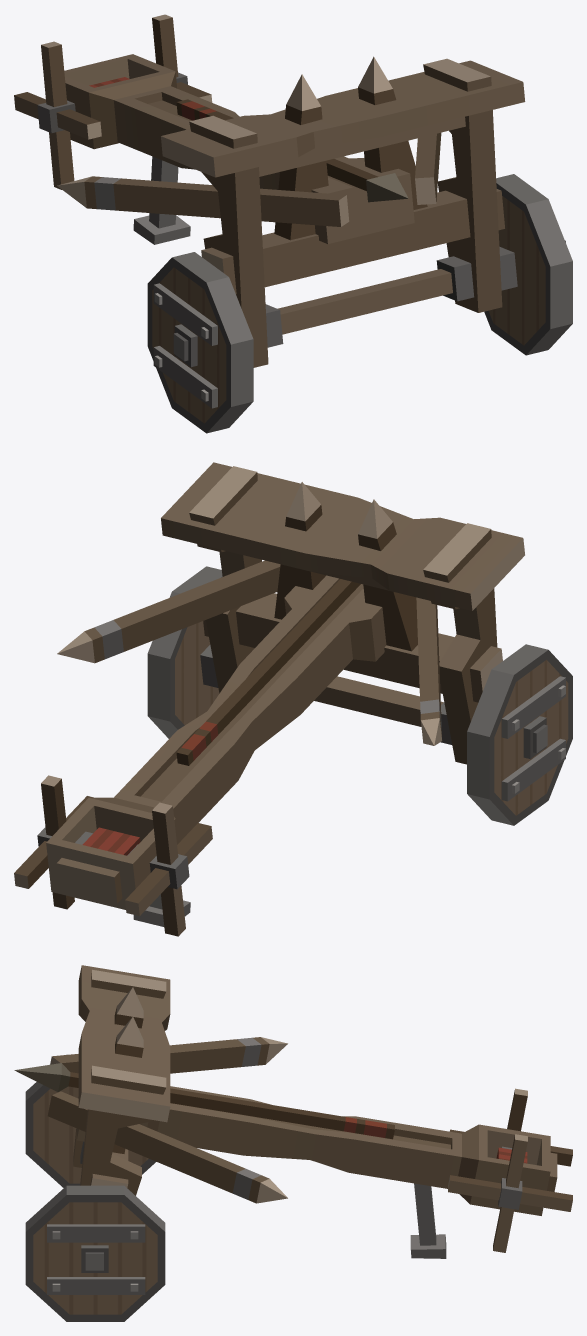
File: SF_Veh_Goblin_Ballista_01.fbx
3 renders of one model, top to bottom at view 1: azimuth 30°, elevation 25°; view 2: azimuth 150°, elevation 25°; view 3: azimuth 270°, elevation 25°, orthographic. The views are drawn at different scales.
Parts seen in each view (by area): view 1: SF_Veh_Goblin_Ballista_01, SF_Veh_Goblin_Ballista_WheelR, SF_Veh_Goblin_Ballista_WheelL, SF_Veh_Goblin_Ballista_ArmR, SF_Veh_Goblin_Ballista_Handle, SF_Veh_Goblin_Ballista_Bolt, SF_Veh_Goblin_Ballista_ArmL; view 2: SF_Veh_Goblin_Ballista_01, SF_Veh_Goblin_Ballista_WheelR, SF_Veh_Goblin_Ballista_Handle, SF_Veh_Goblin_Ballista_ArmL, SF_Veh_Goblin_Ballista_WheelL, SF_Veh_Goblin_Ballista_Bolt, SF_Veh_Goblin_Ballista_ArmR; view 3: SF_Veh_Goblin_Ballista_01, SF_Veh_Goblin_Ballista_WheelL, SF_Veh_Goblin_Ballista_ArmL, SF_Veh_Goblin_Ballista_Handle, SF_Veh_Goblin_Ballista_Bolt, SF_Veh_Goblin_Ballista_WheelR, SF_Veh_Goblin_Ballista_ArmR.
Boxes of the visible parts, x1,y1,x2,y2 form: SF_Veh_Goblin_Ballista_01: (64, 54, 525, 367); SF_Veh_Goblin_Ballista_WheelR: (147, 252, 253, 433); SF_Veh_Goblin_Ballista_WheelL: (484, 174, 572, 355); SF_Veh_Goblin_Ballista_ArmR: (57, 176, 349, 226); SF_Veh_Goblin_Ballista_Handle: (14, 14, 212, 189); SF_Veh_Goblin_Ballista_Bolt: (176, 99, 408, 202); SF_Veh_Goblin_Ballista_ArmL: (415, 132, 441, 204); SF_Veh_Goblin_Ballista_01: (46, 462, 524, 926); SF_Veh_Goblin_Ballista_WheelR: (467, 644, 572, 825); SF_Veh_Goblin_Ballista_Handle: (14, 775, 212, 936); SF_Veh_Goblin_Ballista_ArmL: (57, 560, 280, 663); SF_Veh_Goblin_Ballista_WheelL: (147, 566, 222, 738); SF_Veh_Goblin_Ballista_Bolt: (176, 579, 360, 765); SF_Veh_Goblin_Ballista_ArmR: (416, 597, 442, 745); SF_Veh_Goblin_Ballista_01: (73, 965, 557, 1258); SF_Veh_Goblin_Ballista_WheelL: (25, 1185, 165, 1321); SF_Veh_Goblin_Ballista_ArmL: (47, 1091, 287, 1203); SF_Veh_Goblin_Ballista_Handle: (448, 1088, 572, 1252); SF_Veh_Goblin_Ballista_Bolt: (14, 1063, 394, 1139); SF_Veh_Goblin_Ballista_WheelR: (25, 1054, 156, 1187); SF_Veh_Goblin_Ballista_ArmR: (50, 1037, 287, 1073).
Bounding box in the file's own units: 3.75 × 2.82 × 5.72.
